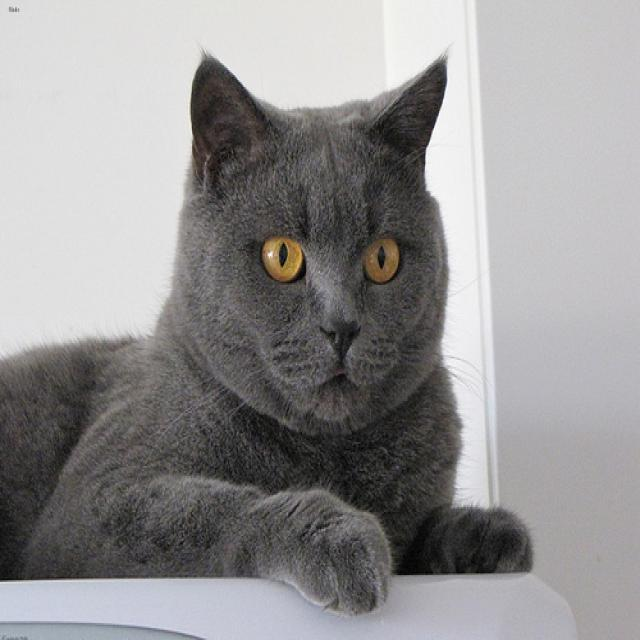British_Shorthair: (188, 55, 446, 417)
